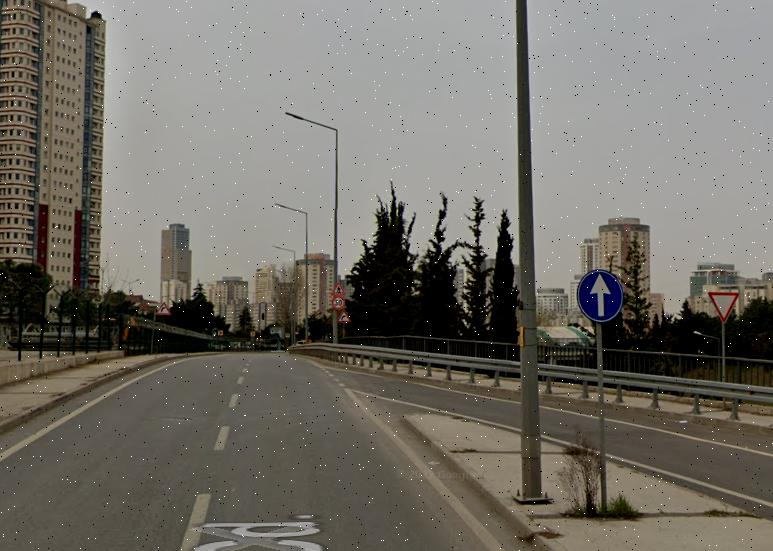forward: (580, 271, 622, 320)
